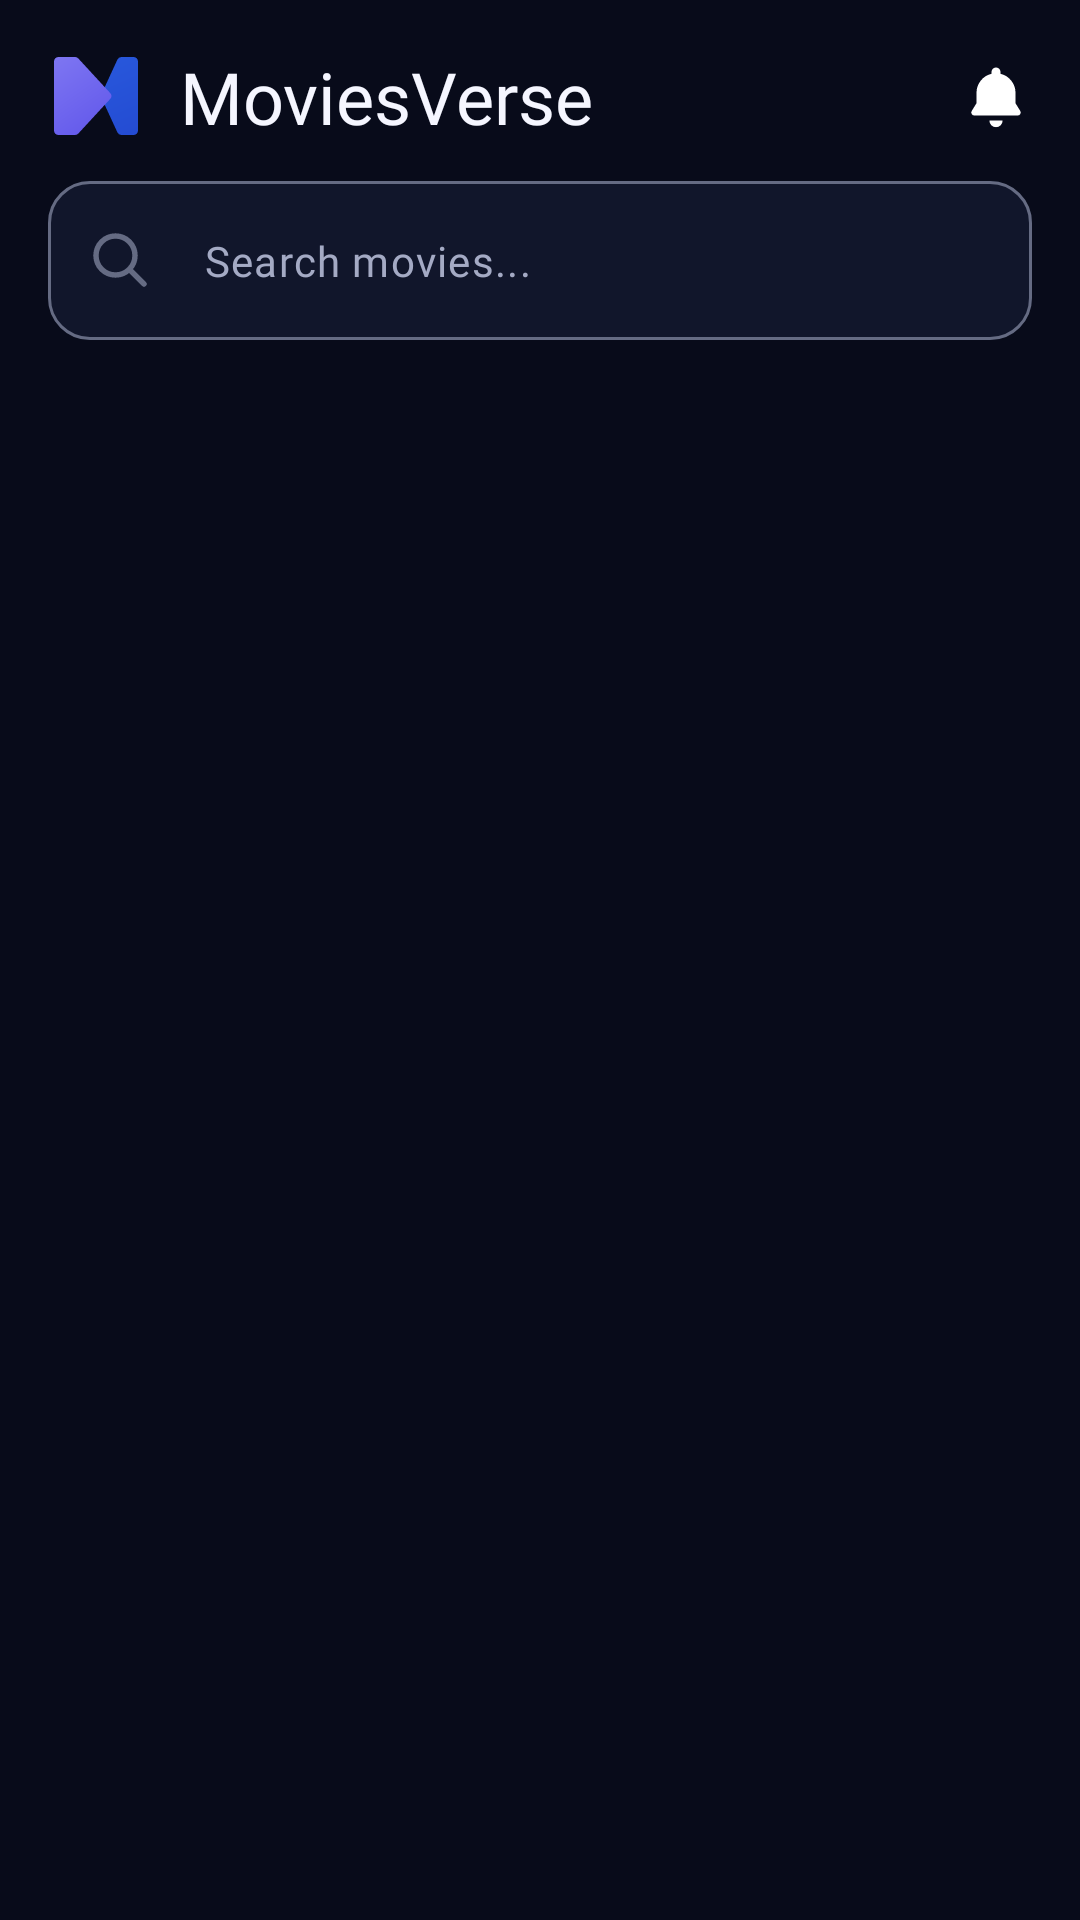

Locate icon controls on the screen. Image size 1080x1920, boxes as box=[x1, y1, x2, y2].
notification: box=[971, 67, 1021, 127]
